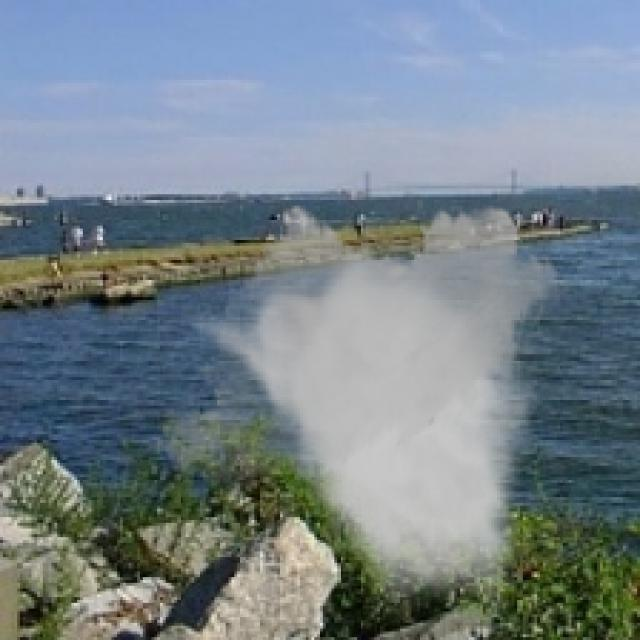Smoke: (152, 195, 572, 620)
